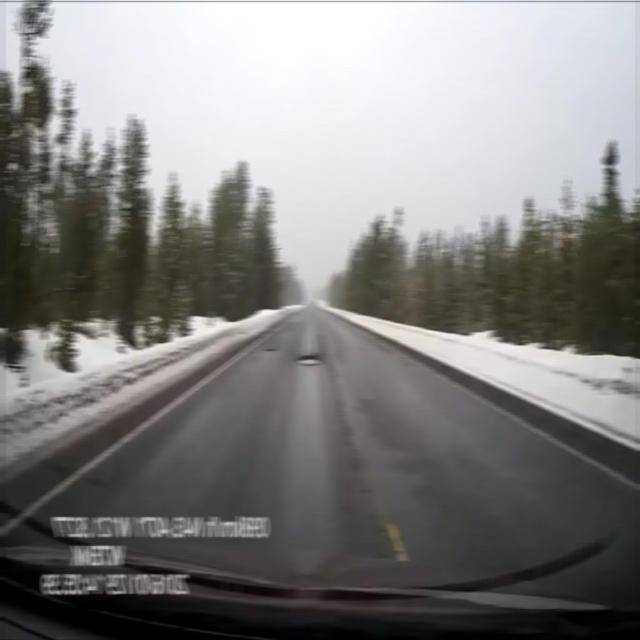Pothole: (290, 347, 330, 369), (259, 343, 283, 357)
